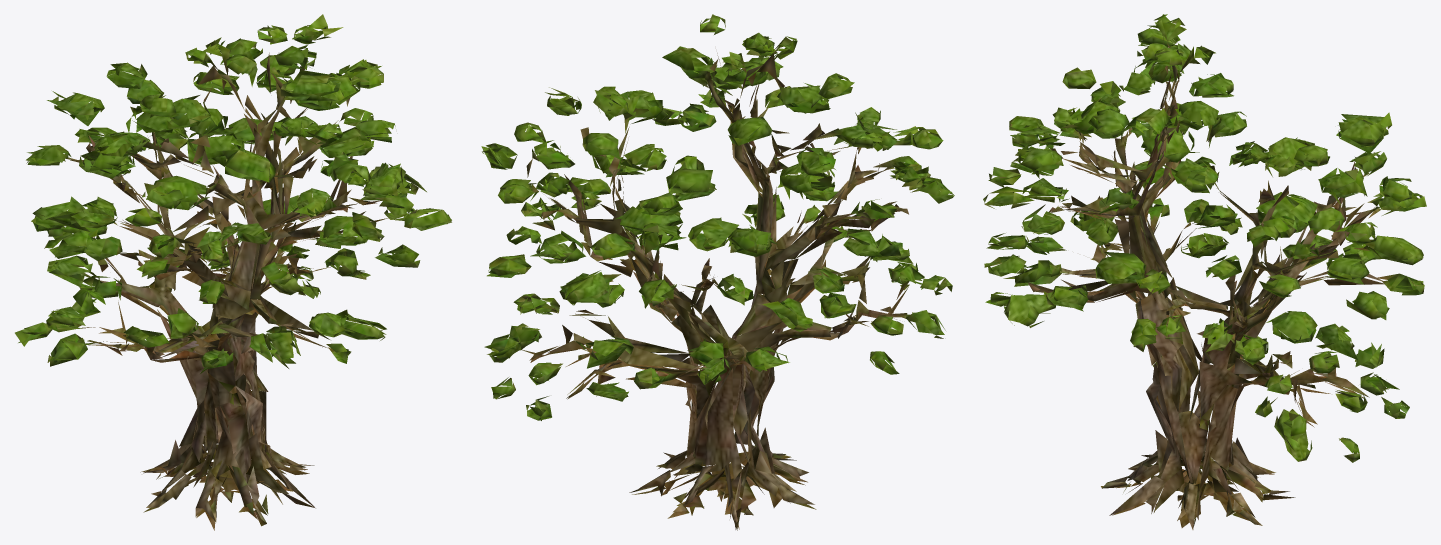
Rendered from arvore_larga_lod1.glb.
3 views of the same model, side by side, from view 1: azimuth 30°, elevation 25°; view 2: azimuth 150°, elevation 25°; view 3: azimuth 270°, elevation 25° (orthographic). The views are drawn at different scales.
Parts seen in each view (by area): view 1: arvore_larga; view 2: arvore_larga; view 3: arvore_larga.
Part boxes in pixels (x1,y1,x2,y2): arvore_larga: (15,14,451,530); arvore_larga: (481,14,954,530); arvore_larga: (983,14,1426,529).
Size of the model in its own units: 8.23 by 9.1 by 7.83.
1 material, 1 textured.
